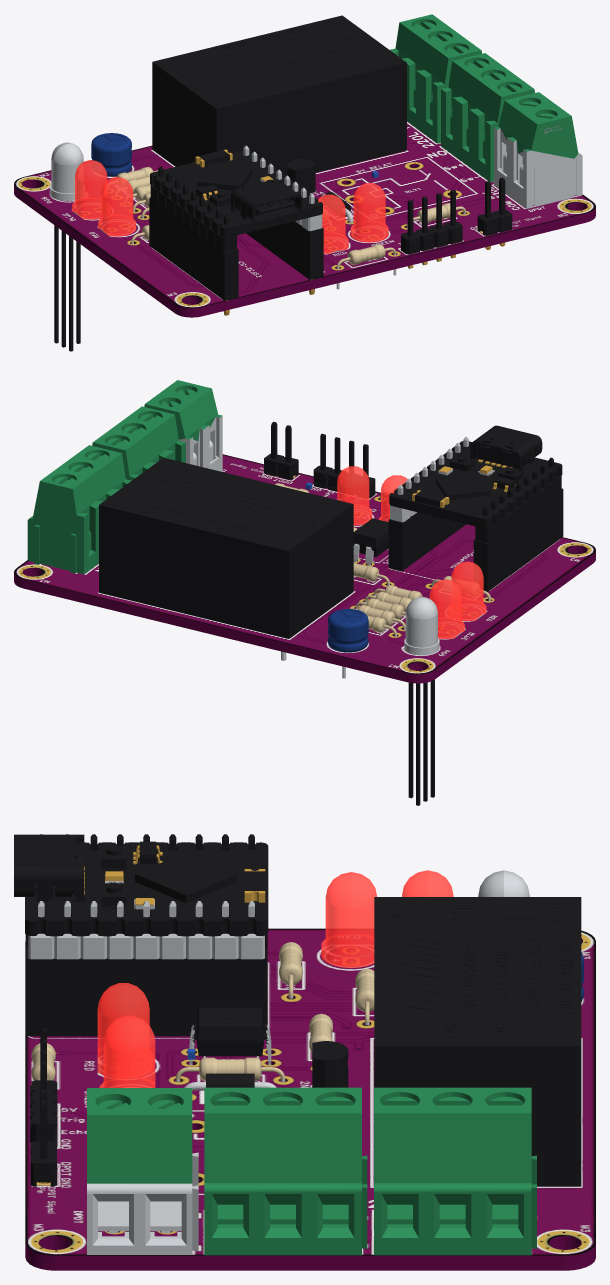
File: board.glb
3 renders of one model, top to bottom at view 1: azimuth 30°, elevation 25°; view 2: azimuth 150°, elevation 25°; view 3: azimuth 270°, elevation 25°, orthographic. The views are drawn at different scales.
Visible parts, largest first — view 1: U5-mesh, Board-mesh, U6-mesh (×7), DPDT-mesh, DPDT1-mesh, InputPowerandload-mesh, U4-mesh, H1-mesh, LED5-mesh, LED4-mesh, LED3-mesh, C2-mesh (+4 smaller); view 2: U5-mesh, Board-mesh, U6-mesh (×8), InputPowerandload-mesh, U4-mesh, DPDT-mesh, DPDT1-mesh, C2-mesh, LED3-mesh, H1-mesh, LED5-mesh, LED4-mesh (+3 smaller); view 3: Board-mesh, U5-mesh, U6-mesh (×8), DPDT1-mesh, InputPowerandload-mesh, DPDT-mesh, LED4-mesh, U1-mesh, LED5-mesh, LED1-mesh, H1-mesh, Q1-mesh (+9 smaller).
Boxes of the visible parts, <box> form: U5-mesh: <box>152,15,406,176</box>; Board-mesh: <box>14,121,595,317</box>; U6-mesh (×7): <box>149,145,323,315</box>; DPDT-mesh: <box>494,92,582,208</box>; DPDT1-mesh: <box>441,53,534,182</box>; InputPowerandload-mesh: <box>390,14,481,143</box>; U4-mesh: <box>49,142,83,351</box>; H1-mesh: <box>401,189,462,268</box>; LED5-mesh: <box>350,183,388,242</box>; LED4-mesh: <box>98,176,135,236</box>; LED3-mesh: <box>72,160,107,219</box>; C2-mesh: <box>91,133,131,176</box>; U5-mesh: <box>99,457,353,660</box>; Board-mesh: <box>14,454,595,683</box>; U6-mesh (×8): <box>388,425,563,591</box>; InputPowerandload-mesh: <box>27,445,131,574</box>; U4-mesh: <box>404,596,439,805</box>; DPDT-mesh: <box>144,380,222,471</box>; DPDT1-mesh: <box>92,406,185,480</box>; C2-mesh: <box>328,609,368,678</box>; LED3-mesh: <box>429,579,464,638</box>; H1-mesh: <box>313,433,375,498</box>; LED5-mesh: <box>337,466,372,525</box>; LED4-mesh: <box>451,561,486,621</box>; Board-mesh: <box>25,928,595,1270</box>; U5-mesh: <box>374,897,581,1186</box>; U6-mesh (×8): <box>14,834,268,1036</box>; DPDT1-mesh: <box>204,1087,367,1255</box>; InputPowerandload-mesh: <box>374,1087,536,1255</box>; DPDT-mesh: <box>87,1088,198,1254</box>; LED4-mesh: <box>321,872,376,967</box>; U1-mesh: <box>189,1007,271,1064</box>; LED5-mesh: <box>99,1015,155,1087</box>; LED1-mesh: <box>97,983,149,1075</box>; H1-mesh: <box>30,1028,57,1146</box>; Q1-mesh: <box>312,1041,348,1087</box>.
Bounding box in the file's own units: 0.0748 × 0.0426 × 0.0562.
Materials: 14 (2 with a texture image).
